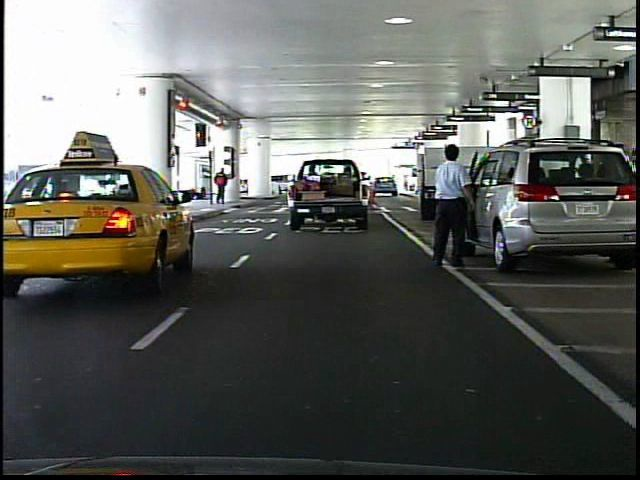person: (424, 138, 480, 276), (212, 164, 231, 207)
